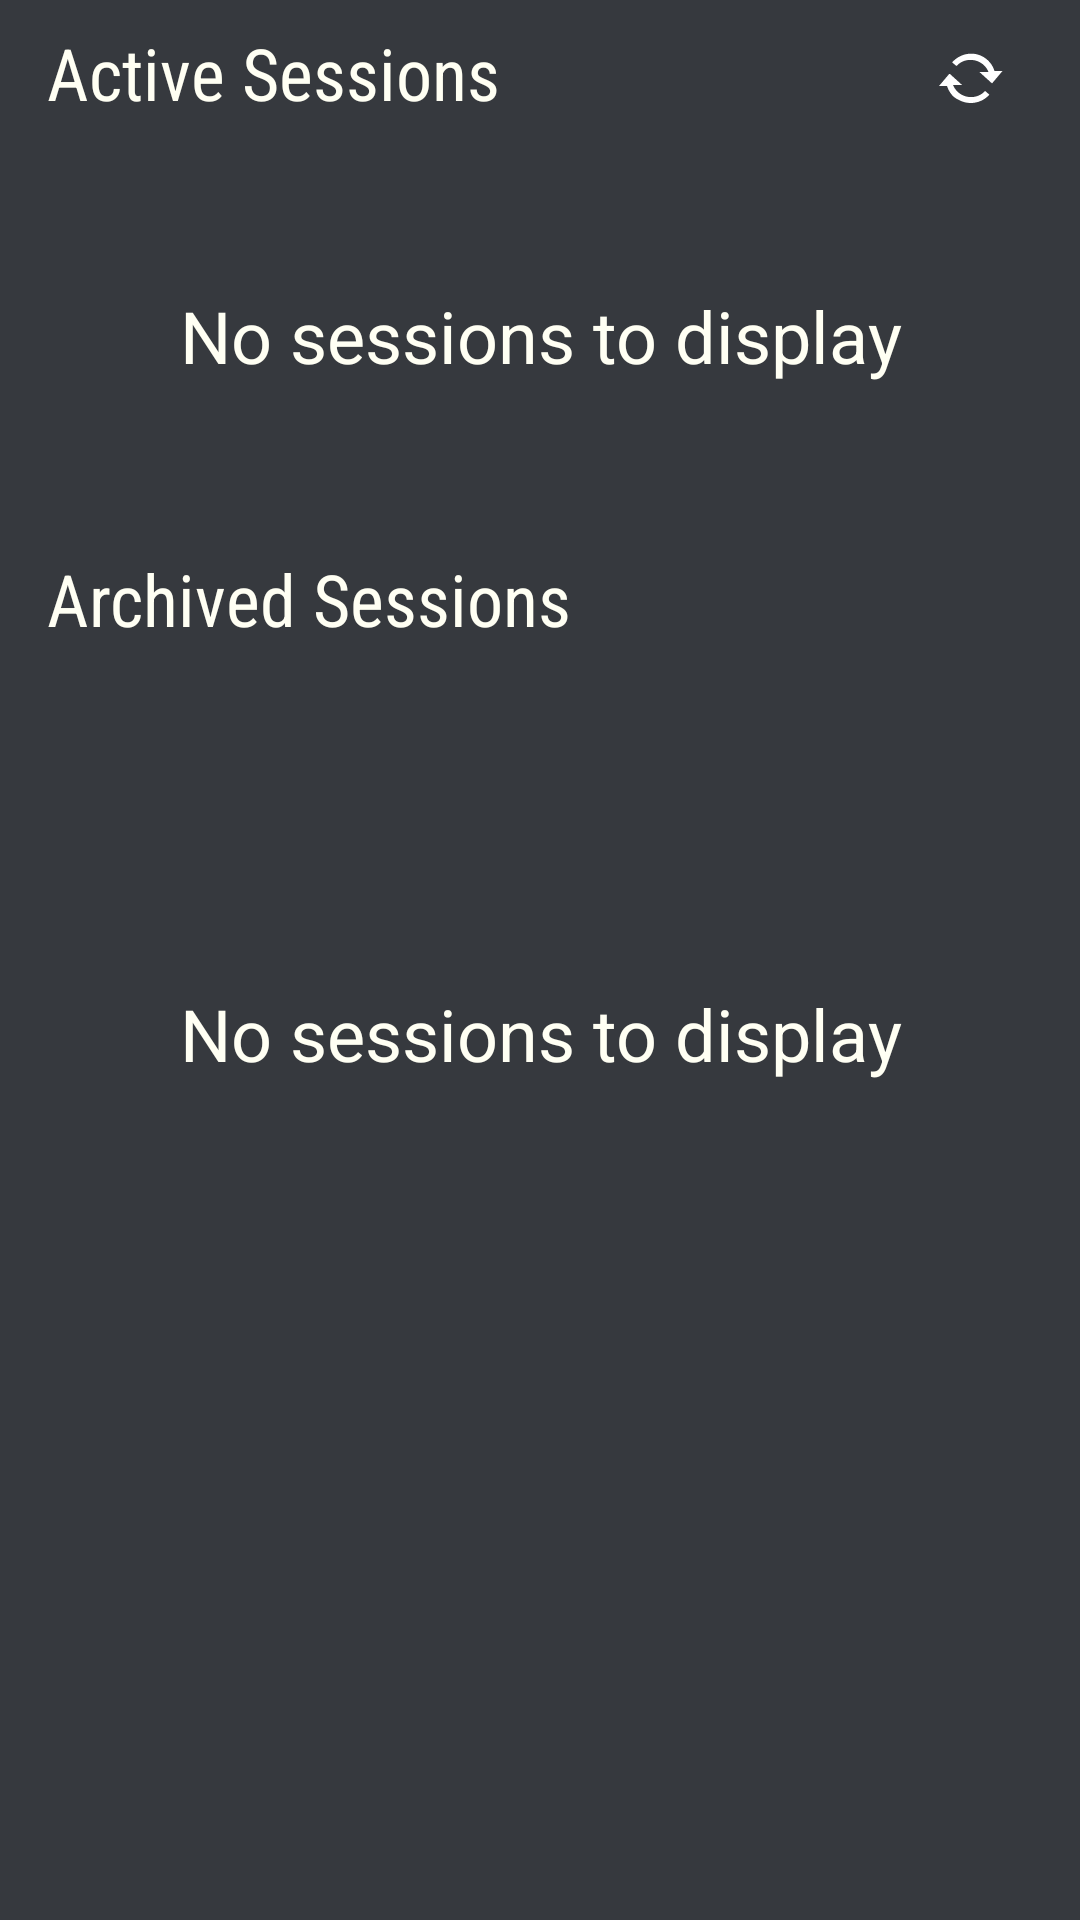

Point at icon controls on the screen. Image size 1080 × 1920, points as [x,y].
sync: [971,78]
